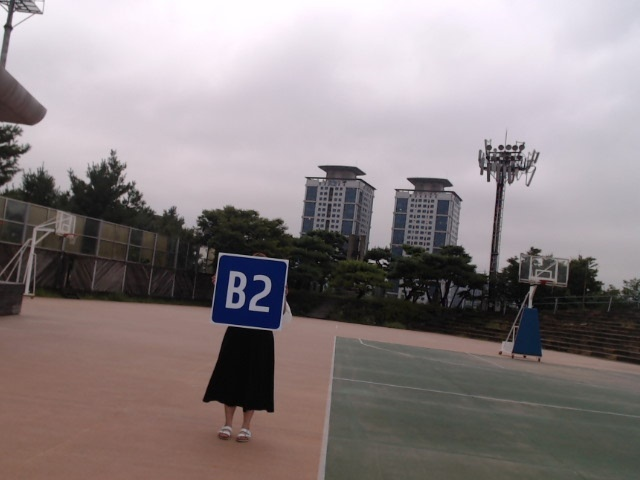delivery_b2: (209, 254, 288, 330)
